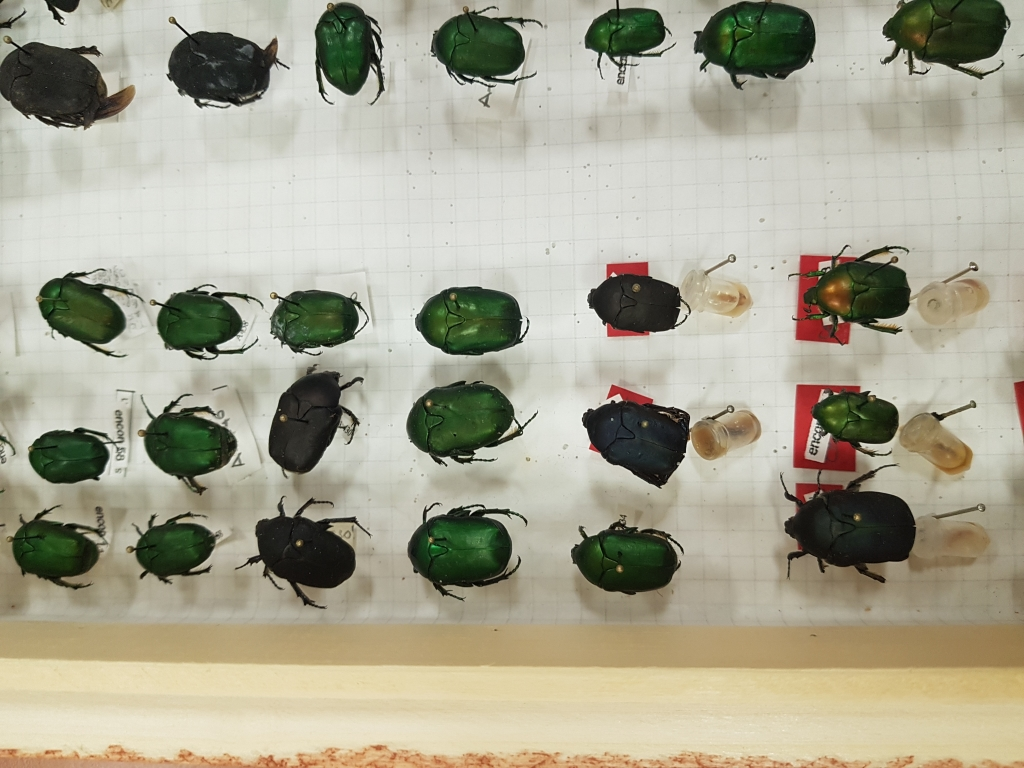Protaetia_ungarica_americana: (765, 458, 936, 583), (231, 483, 384, 607), (405, 496, 544, 600), (402, 374, 548, 469), (259, 358, 380, 472), (567, 507, 702, 605), (800, 235, 915, 342), (416, 273, 546, 359), (266, 274, 373, 356)
